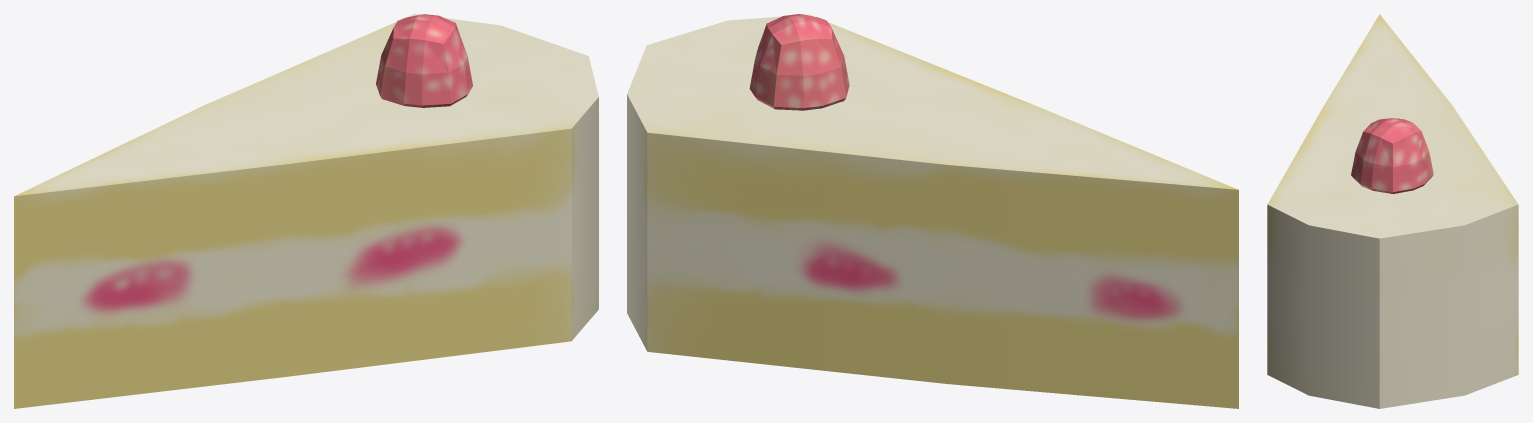
The model's file is Enemy5.fbx.
3 views of the same model, side by side, from view 1: azimuth 30°, elevation 25°; view 2: azimuth 150°, elevation 25°; view 3: azimuth 270°, elevation 25° (orthographic). The views are drawn at different scales.
Parts seen in each view (by area): view 1: pCube1, pCube2; view 2: pCube1, pCube2; view 3: pCube1, pCube2.
Boxes of the visible parts, box(x1,y1,x2,y2) form: pCube1: box(14, 14, 598, 408); pCube2: box(376, 14, 472, 107); pCube1: box(627, 14, 1238, 408); pCube2: box(749, 14, 849, 110); pCube1: box(1267, 14, 1518, 408); pCube2: box(1351, 118, 1433, 193).
Bounding box in the file's own units: 283 × 133 × 134.
Materials: 1 (1 with a texture image).
